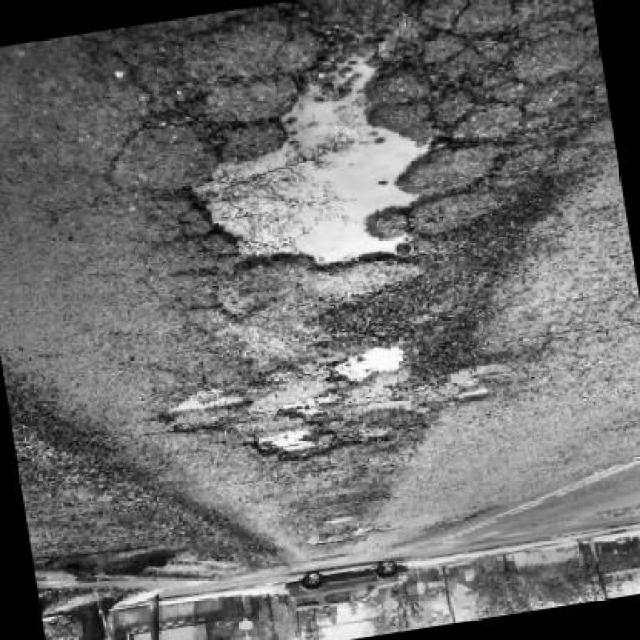pothole: (159, 36, 466, 302), (155, 382, 257, 441), (247, 421, 339, 472), (325, 338, 413, 389), (271, 394, 343, 432), (454, 385, 494, 407)
